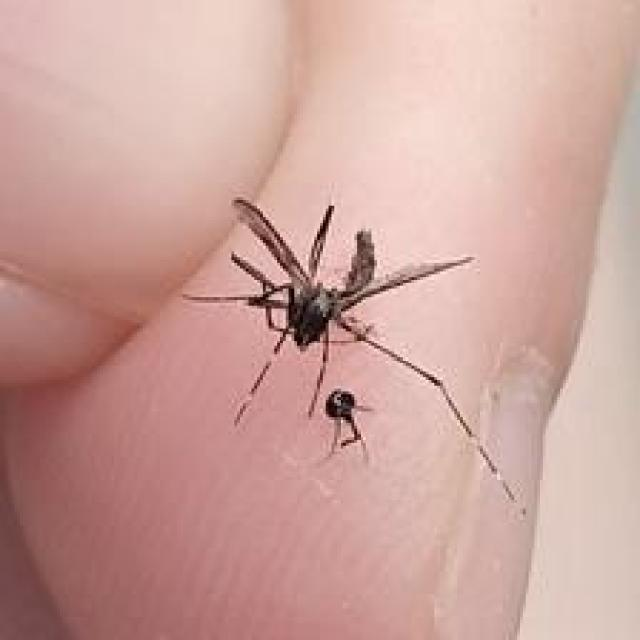Aedes albopictus: (180, 196, 523, 510)
